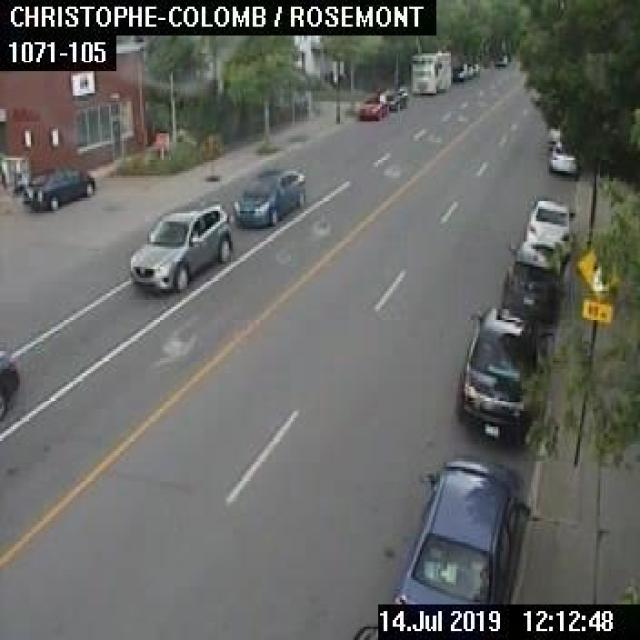vehicle: (392, 456, 529, 602), (457, 308, 552, 440), (129, 204, 231, 292), (502, 240, 568, 313), (231, 169, 304, 225), (21, 166, 94, 209), (524, 197, 574, 241), (410, 51, 450, 92), (0, 351, 18, 418), (548, 138, 577, 172), (379, 86, 406, 110), (358, 96, 387, 118), (452, 62, 466, 78), (493, 53, 505, 65), (472, 62, 478, 74), (466, 64, 472, 76)
